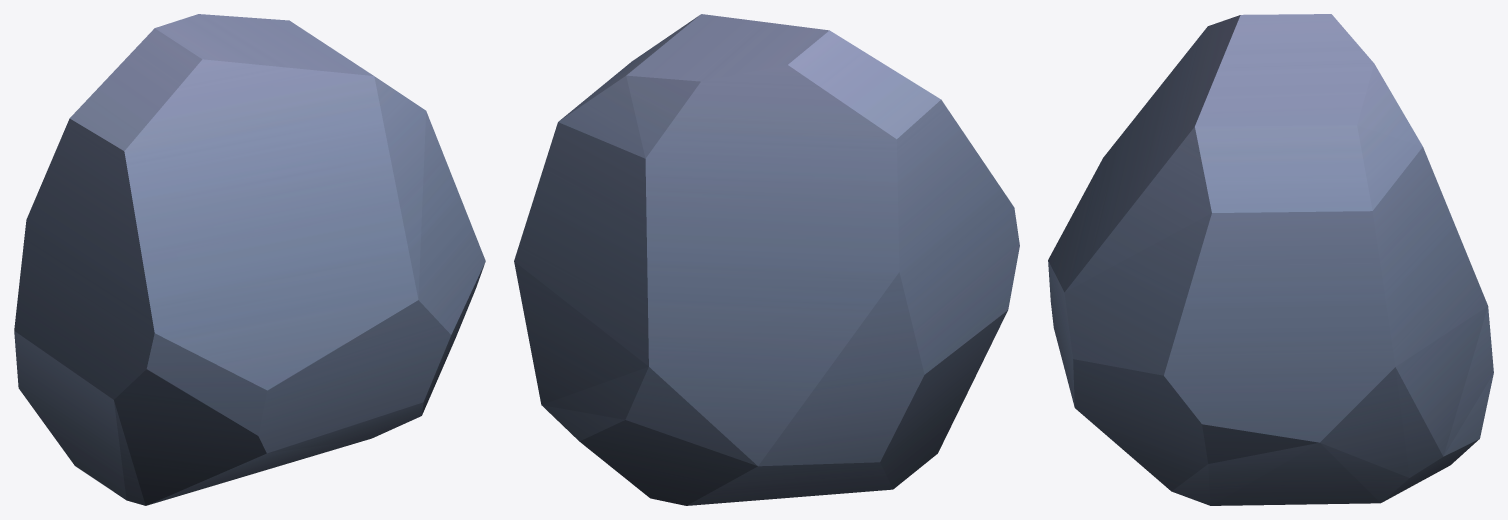
Rendered from Rock_5.fbx.
The picture shows the model from 3 angles, left to right: view 1: azimuth 30°, elevation 25°; view 2: azimuth 150°, elevation 25°; view 3: azimuth 270°, elevation 25°; orthographic projection.
Parts seen in each view (by area): view 1: Rock 5; view 2: Rock 5; view 3: Rock 5.
Boxes of the visible parts, box(x1,y1,x2,y2) form: Rock 5: box(14, 14, 485, 505); Rock 5: box(514, 14, 1019, 505); Rock 5: box(1048, 14, 1493, 505).
Bounding box in the file's own units: 173 × 170 × 165.
